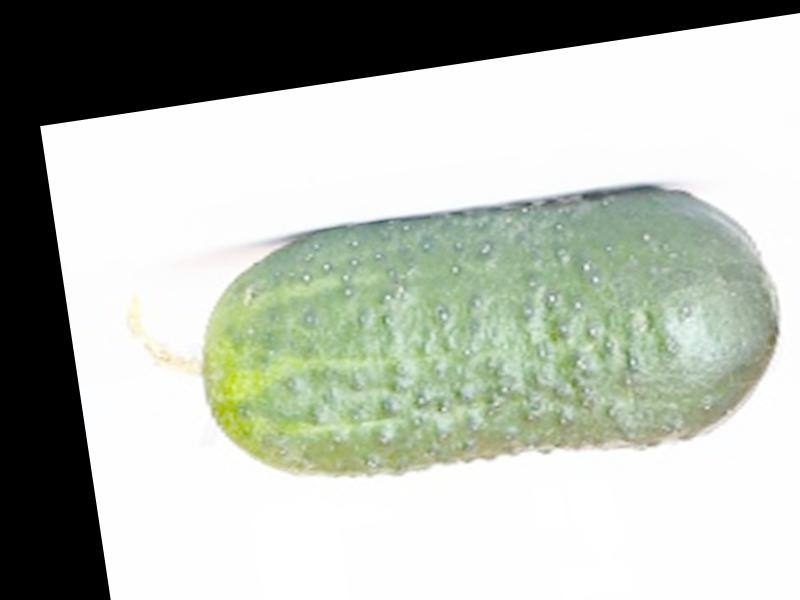Cucumber: (116, 163, 794, 525)
